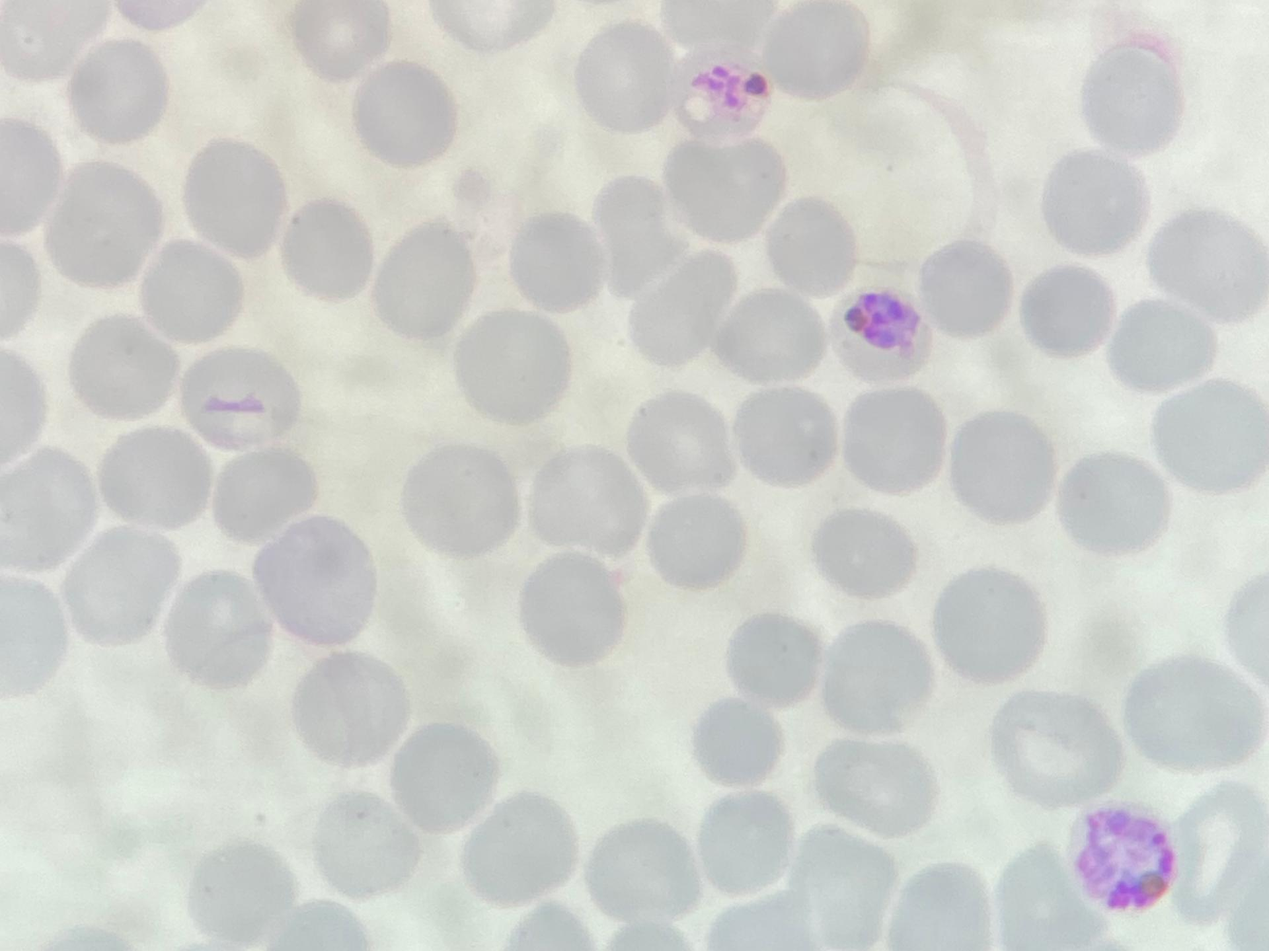Infected: (1069, 800, 1178, 915), (833, 289, 935, 382), (674, 53, 775, 135)
Uninfected: (1129, 653, 1269, 773), (250, 516, 377, 644), (40, 162, 166, 290), (993, 688, 1121, 812), (787, 825, 905, 951), (534, 441, 651, 562), (454, 309, 573, 427), (296, 653, 414, 771), (64, 527, 181, 645), (1155, 375, 1269, 493), (1152, 210, 1269, 324), (402, 445, 520, 558), (182, 133, 289, 257), (461, 792, 581, 902), (934, 565, 1043, 686), (587, 817, 705, 927), (368, 218, 477, 337), (64, 313, 183, 422), (815, 739, 942, 841), (821, 617, 931, 734), (0, 440, 97, 571), (97, 423, 215, 529), (668, 136, 787, 241), (633, 253, 740, 368), (312, 790, 428, 896), (392, 726, 502, 837), (192, 838, 300, 951), (517, 551, 623, 665), (185, 347, 303, 448), (1061, 448, 1169, 558), (1000, 841, 1108, 951), (953, 412, 1059, 524), (628, 395, 745, 495), (137, 233, 245, 341), (1043, 144, 1148, 254), (843, 389, 948, 497), (1082, 45, 1185, 155), (170, 574, 266, 689), (507, 205, 606, 316), (352, 65, 457, 169), (68, 37, 169, 145), (577, 22, 679, 128), (1107, 296, 1222, 390), (588, 172, 684, 283), (725, 608, 829, 710), (811, 504, 918, 602), (735, 387, 836, 489), (772, 0, 872, 103), (699, 792, 798, 894), (646, 491, 745, 592), (894, 858, 999, 951), (719, 286, 821, 381), (283, 197, 374, 303), (212, 455, 321, 541), (929, 237, 1016, 337), (1023, 261, 1116, 354), (765, 197, 856, 292), (294, 0, 395, 79), (692, 699, 779, 787)
